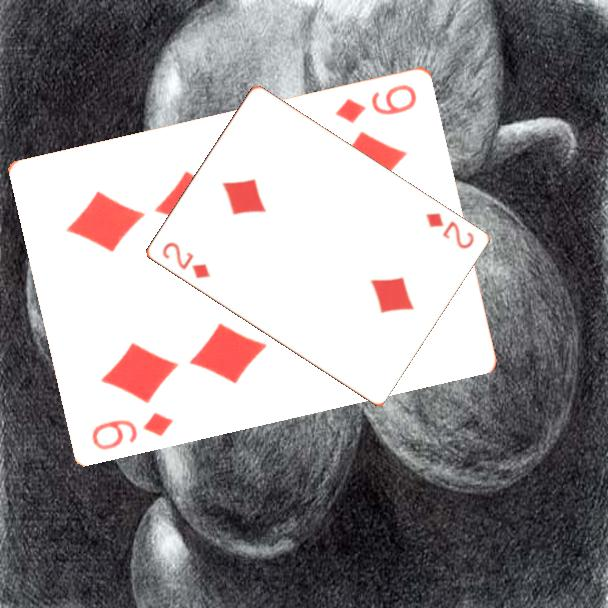d02: (158, 238, 213, 282), (422, 209, 477, 252)
d09: (332, 80, 420, 126), (88, 408, 177, 453)
